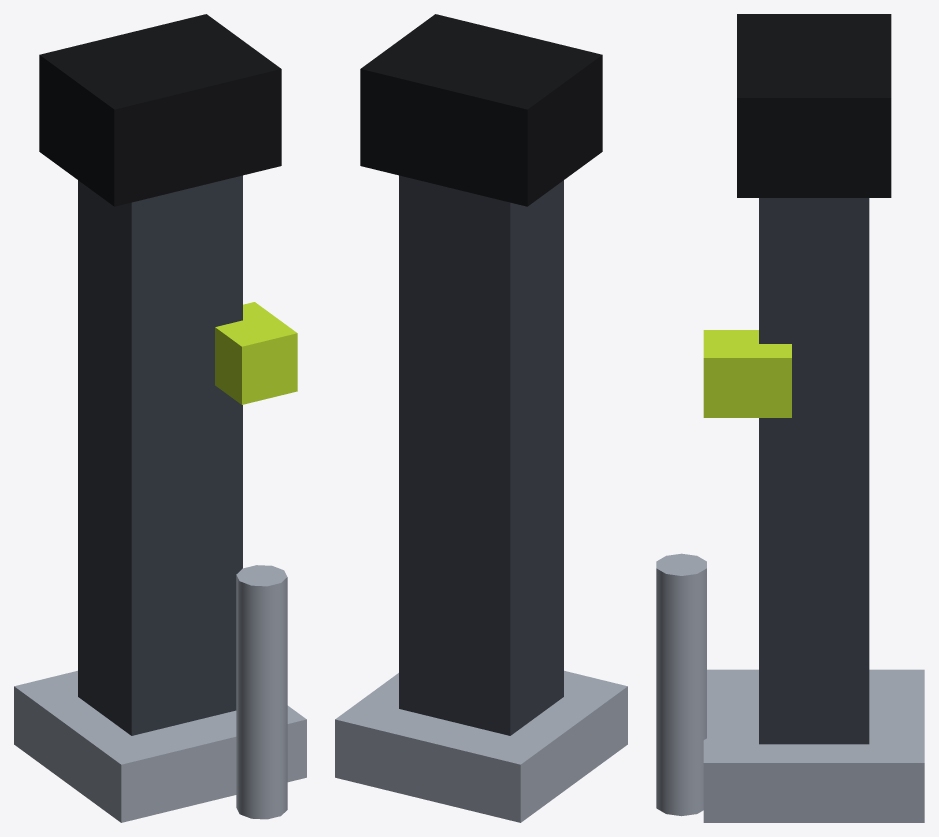
File: kvi-fre-03.glb
3 views of the same model, side by side, from view 1: azimuth 30°, elevation 25°; view 2: azimuth 150°, elevation 25°; view 3: azimuth 270°, elevation 25° (orthographic). The views are drawn at different scales.
Parts seen in each view (by area): view 1: Freno de estacionamiento; view 2: Freno de estacionamiento; view 3: Freno de estacionamiento.
Part boxes in pixels (box(x1,y1,x2,y2)): Freno de estacionamiento: box(14, 14, 306, 822); Freno de estacionamiento: box(335, 14, 627, 822); Freno de estacionamiento: box(656, 14, 924, 822).
Bounding box in the file's own units: 0.274 × 1 × 0.3326.
